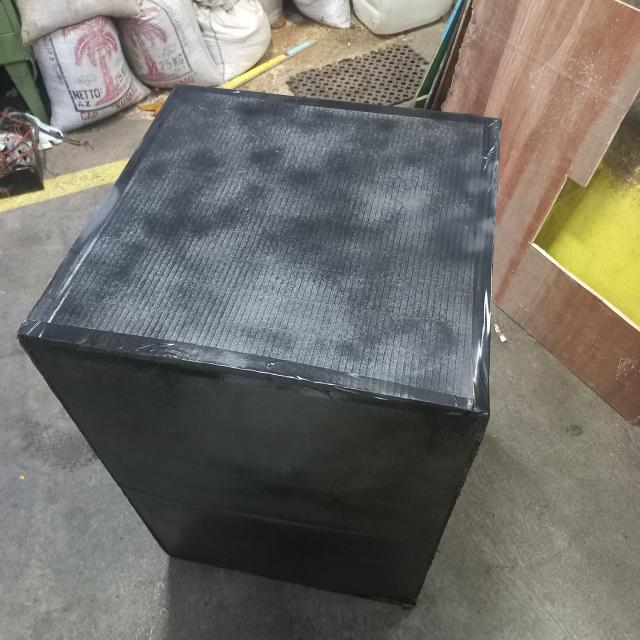obstacle: (19, 80, 503, 609)
